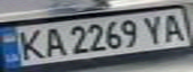2: (66, 21, 90, 56), (84, 20, 109, 53)
6: (103, 18, 124, 51)
9: (118, 16, 145, 48)
A: (157, 11, 190, 43), (39, 25, 66, 58)
K: (15, 26, 48, 61)
Y: (139, 12, 172, 45)
